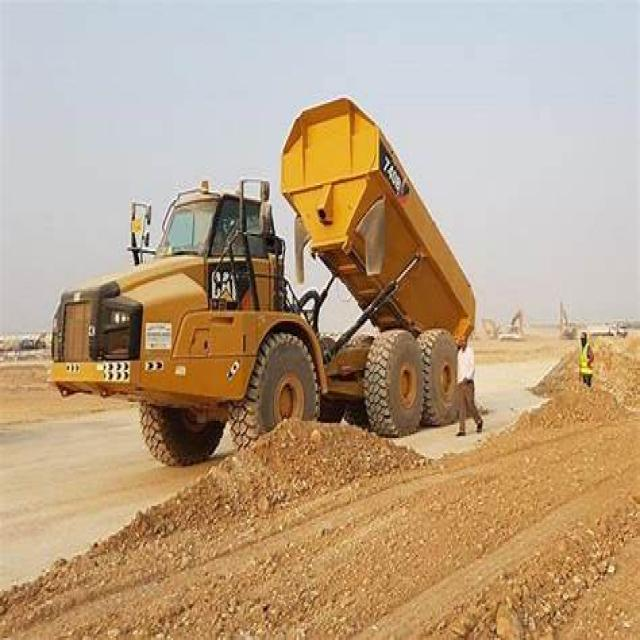dump_truck: (39, 88, 475, 446)
